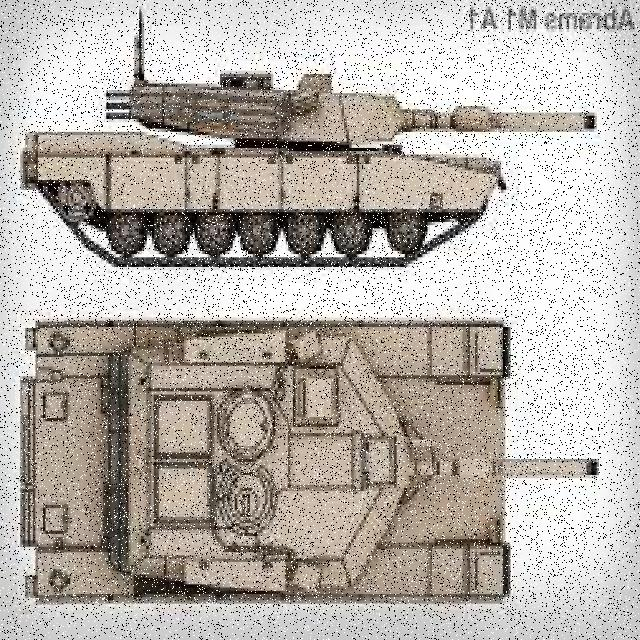MIL_MBT: (65, 301, 602, 612), (76, 63, 597, 265)
